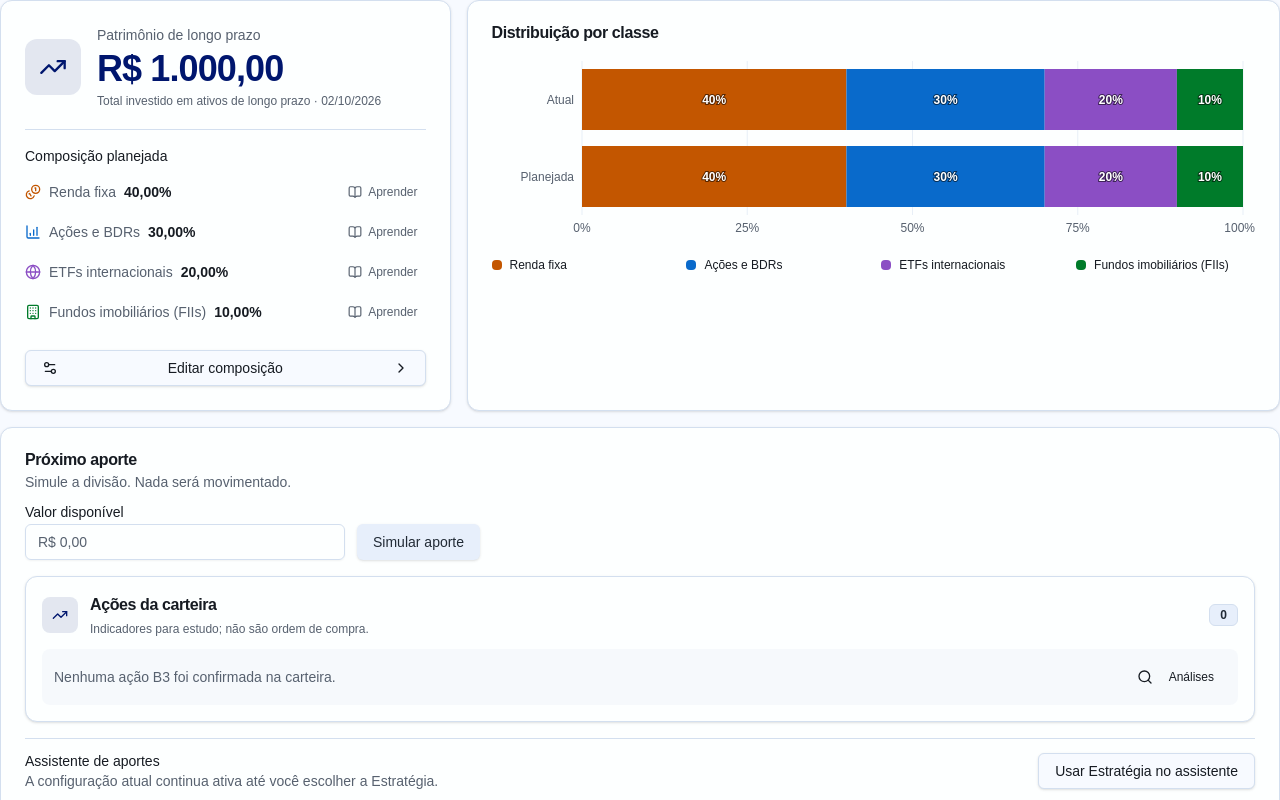
Scenario: PersonalInvestmentStrategy › updates the page state after the user explicitly activates Strategy
Expected: the text "Distribuição por classe" is shown, top-left (492, 24), bottom-right (658, 41)
Click the button "Usar Estratégia no assistente": (1147, 771) top-left (1038, 753), bottom-right (1255, 789)
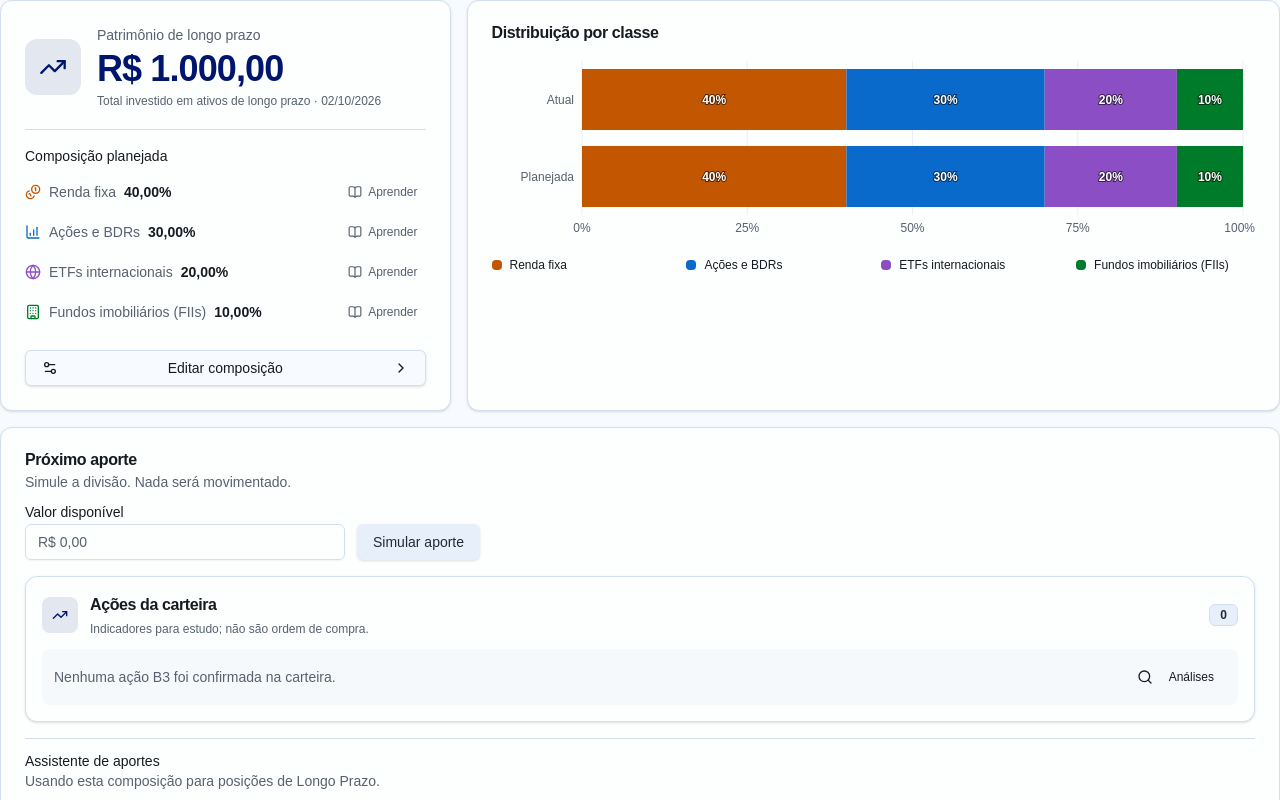
Result: the text "Usando esta composição para posições de Longo Prazo." is shown at top-left (25, 771), bottom-right (380, 791)
